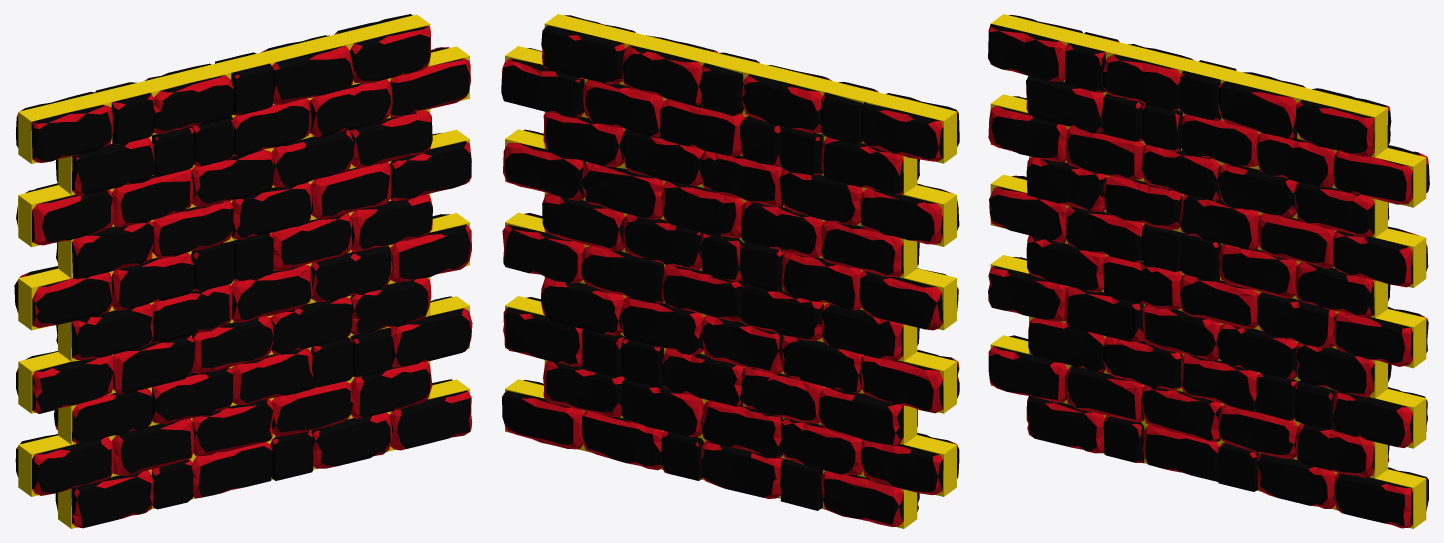
The model's file is DungeonWall.fbx.
3 renders of one model, left to right at view 1: azimuth 30°, elevation 25°; view 2: azimuth 150°, elevation 25°; view 3: azimuth 330°, elevation 25°, orthographic. The views are drawn at different scales.
Parts seen in each view (by area): view 1: DungeonWall; view 2: DungeonWall; view 3: DungeonWall.
Part boxes in pixels (<box>): DungeonWall: <box>14,14,472,528</box>; DungeonWall: <box>501,14,959,528</box>; DungeonWall: <box>988,14,1429,528</box>.
Size of the model in its own units: 441 by 44.51 by 401.
